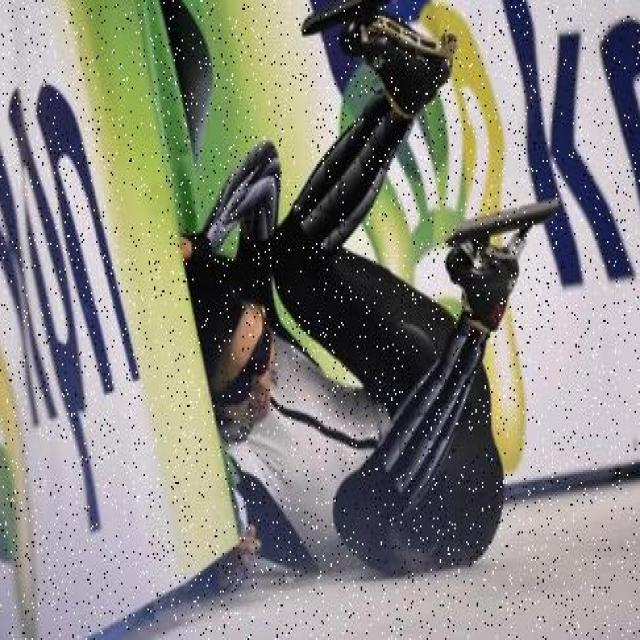fall: (195, 39, 528, 575)
